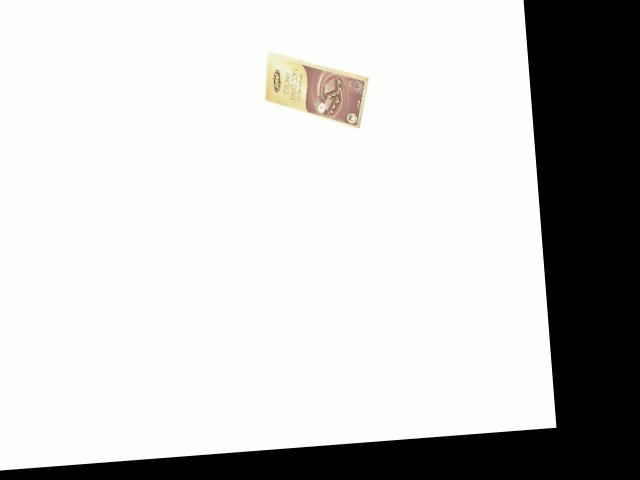chocolate: (260, 40, 382, 135)
